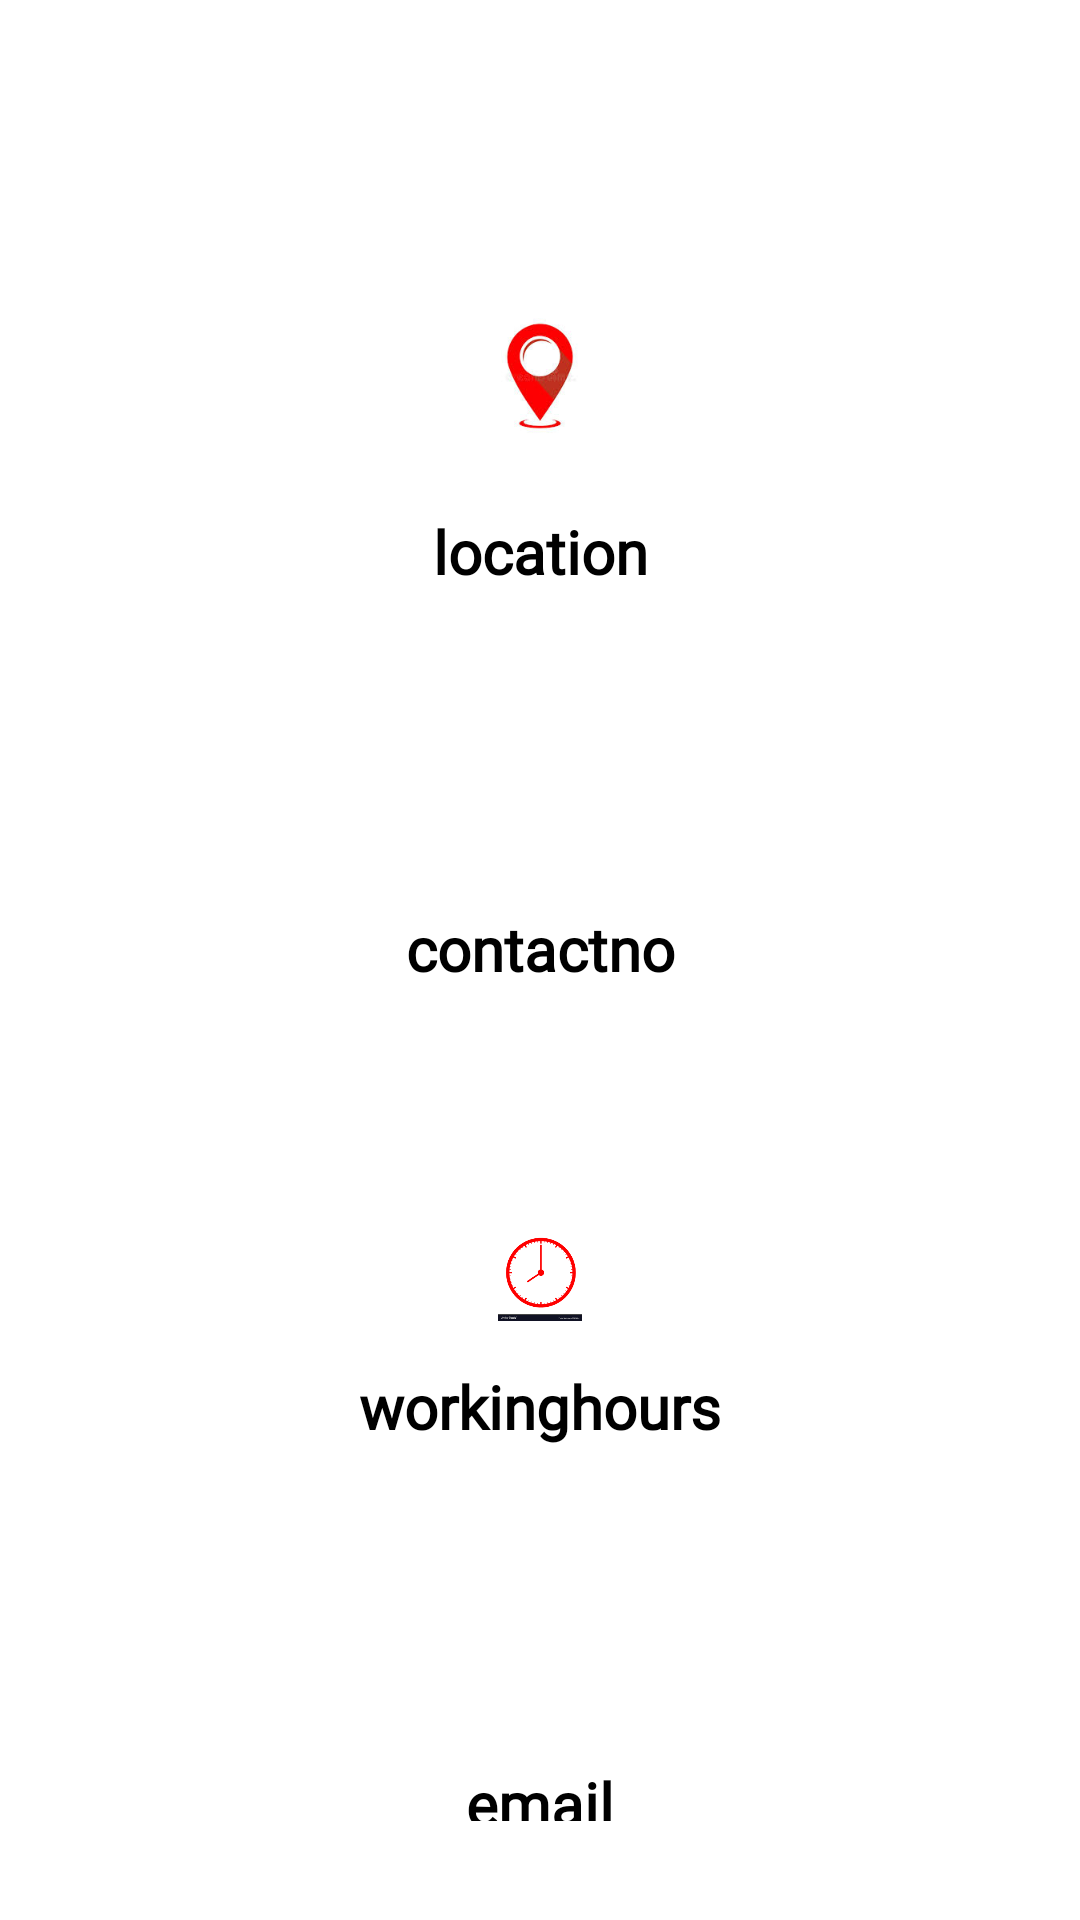

Where to tap for icons on this 1080px x 1920px app screen, as (x,y):
time: (540,1279)
